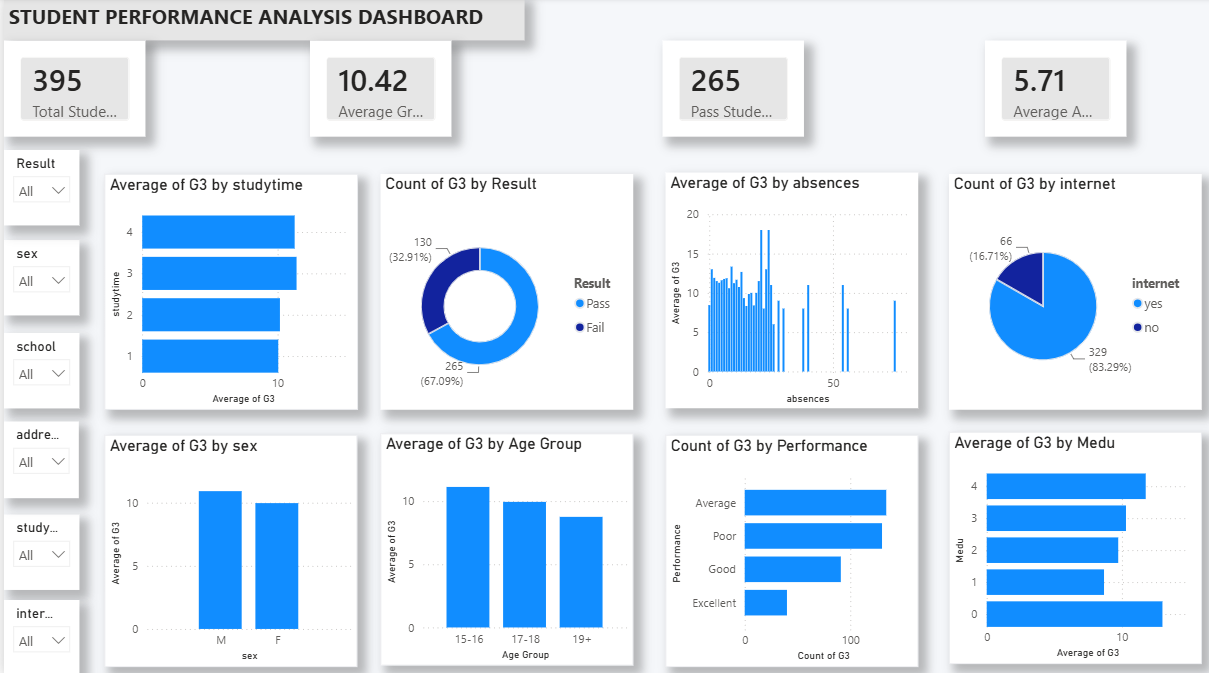

The page's visual inventory and layout, read from the dashboard file:
{"tool":"powerbi","page":{"name":"Page 1","canvas":[1280,720],"ordinal":0},"visuals":[{"type":"textbox","box":[0,0,551.9,46.1],"z":0},{"type":"cardVisual","fields":{"Data":["student_data.Total Students"]},"box":[0,45.3,150,102],"z":1000},{"type":"cardVisual","fields":{"Data":["student_data.Average Grade"]},"box":[323.8,45.3,150,102],"z":2000},{"type":"cardVisual","fields":{"Data":["student_data.Pass Students"]},"box":[697.9,45.3,150,102],"z":3000},{"type":"cardVisual","fields":{"Data":["student_data.Average Absences"]},"box":[1039.5,45.3,150,102],"z":4000},{"type":"donutChart","fields":{"Category":["student_data.Result"],"Y":["CountNonNull(student_data.G3)"]},"box":[399.2,187.7,268,250],"z":5000},{"type":"clusteredColumnChart","fields":{"Category":["student_data.sex"],"Y":["Avg(student_data.G3)"]},"box":[106.6,464.5,268,246],"z":6000},{"type":"clusteredBarChart","fields":{"Category":["student_data.studytime"],"Y":["Avg(student_data.G3)"]},"box":[106.6,187.7,268.3,250],"z":7000},{"type":"clusteredColumnChart","fields":{"Category":["student_data.Age Group"],"Y":["Avg(student_data.G3)"]},"box":[399.2,462.9,268,246],"z":8000},{"type":"columnChart","fields":{"Category":["student_data.absences"],"Y":["Avg(student_data.G3)"]},"box":[701.5,186.1,268,250],"z":9000},{"type":"barChart","fields":{"Category":["student_data.Performance"],"Y":["CountNonNull(student_data.G3)"]},"box":[701.5,464.5,268,246],"z":10000},{"type":"pieChart","fields":{"Category":["student_data.internet"],"Y":["CountNonNull(student_data.G3)"]},"box":[1002.1,187.7,268,250],"z":11000},{"type":"clusteredBarChart","fields":{"Category":["student_data.Medu"],"Y":["Avg(student_data.G3)"]},"box":[1002.1,461.3,268,246],"z":12000},{"type":"slicer","fields":{"Values":["student_data.sex"]},"box":[0,257.7,80,80],"z":13000},{"type":"slicer","fields":{"Values":["student_data.school"]},"box":[0,356.3,80,80],"z":14000},{"type":"slicer","fields":{"Values":["student_data.studytime"]},"box":[0,548.9,80,80],"z":15000},{"type":"slicer","fields":{"Values":["student_data.address"]},"box":[0,450.1,79.5,81.1],"z":16000},{"type":"slicer","fields":{"Values":["student_data.internet"]},"box":[0,639,80,80],"z":17000},{"type":"slicer","fields":{"Values":["student_data.Result"]},"box":[0,162.2,80,80],"z":18000}]}

Visuals, with their boxes in screenshot pixels (x1, y1, x2, y2), scaled from the page's 1280x720 canvas onto the 1209x673 screenshot:
textbox: <region>0, 0, 521, 43</region>
cardVisual - student_data.Total Students: <region>0, 42, 142, 138</region>
cardVisual - student_data.Average Grade: <region>306, 42, 448, 138</region>
cardVisual - student_data.Pass Students: <region>659, 42, 801, 138</region>
cardVisual - student_data.Average Absences: <region>982, 42, 1124, 138</region>
donutChart - student_data.Result x CountNonNull(student_data.G3): <region>377, 175, 630, 409</region>
clusteredColumnChart - student_data.sex x Avg(student_data.G3): <region>101, 434, 354, 664</region>
clusteredBarChart - student_data.studytime x Avg(student_data.G3): <region>101, 175, 354, 409</region>
clusteredColumnChart - student_data.Age Group x Avg(student_data.G3): <region>377, 433, 630, 663</region>
columnChart - student_data.absences x Avg(student_data.G3): <region>663, 174, 916, 408</region>
barChart - student_data.Performance x CountNonNull(student_data.G3): <region>663, 434, 916, 664</region>
pieChart - student_data.internet x CountNonNull(student_data.G3): <region>947, 175, 1200, 409</region>
clusteredBarChart - student_data.Medu x Avg(student_data.G3): <region>947, 431, 1200, 661</region>
slicer - student_data.sex: <region>0, 241, 76, 316</region>
slicer - student_data.school: <region>0, 333, 76, 408</region>
slicer - student_data.studytime: <region>0, 513, 76, 588</region>
slicer - student_data.address: <region>0, 421, 75, 497</region>
slicer - student_data.internet: <region>0, 597, 76, 672</region>
slicer - student_data.Result: <region>0, 152, 76, 226</region>
